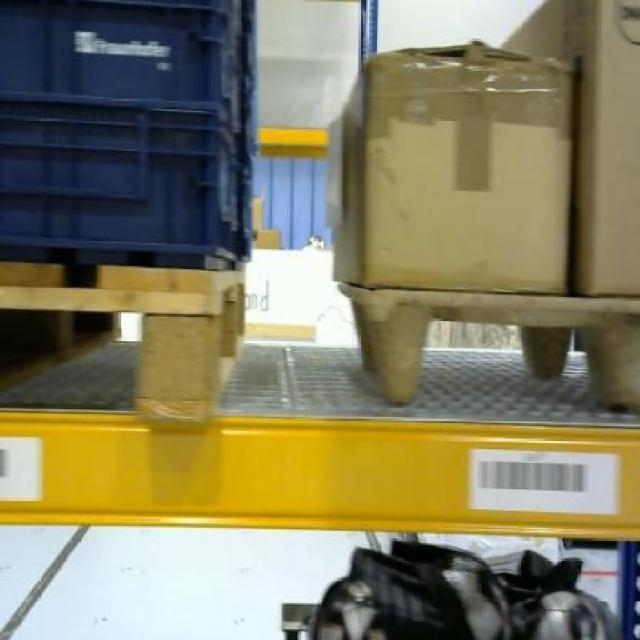box: (329, 35, 569, 294)
